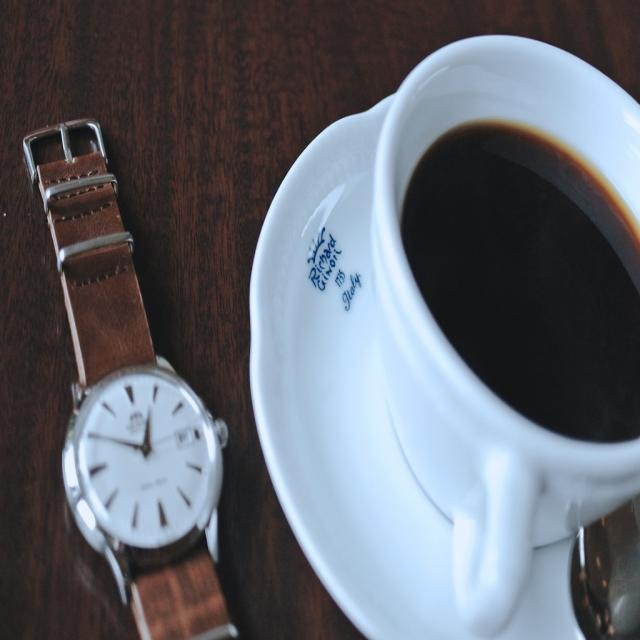Coffee: (403, 125, 639, 438)
Tea: (404, 120, 640, 441)
